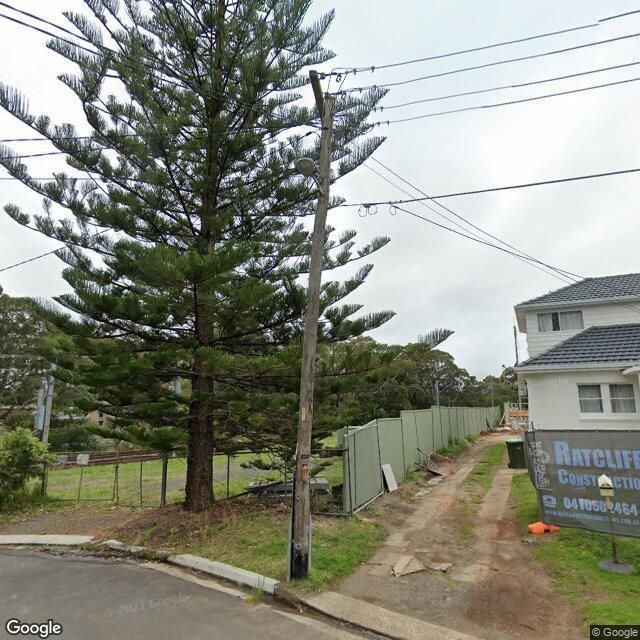crossarm: (308, 71, 324, 127)
streetlight: (294, 158, 322, 195)
timber-pole: (289, 93, 338, 582), (40, 361, 56, 454)
